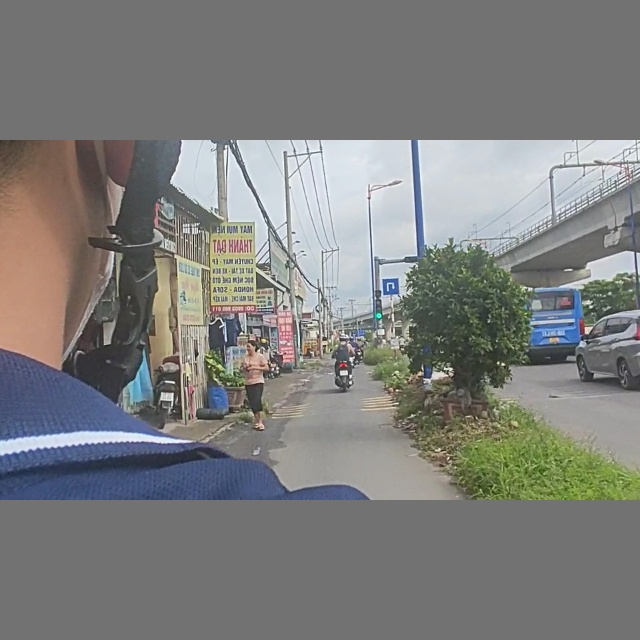I.409: (379, 277, 401, 297)
